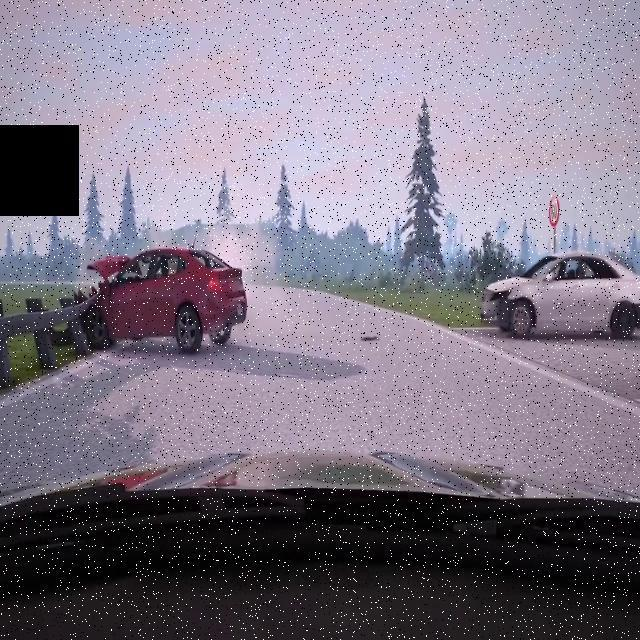accident: (68, 240, 248, 356)
